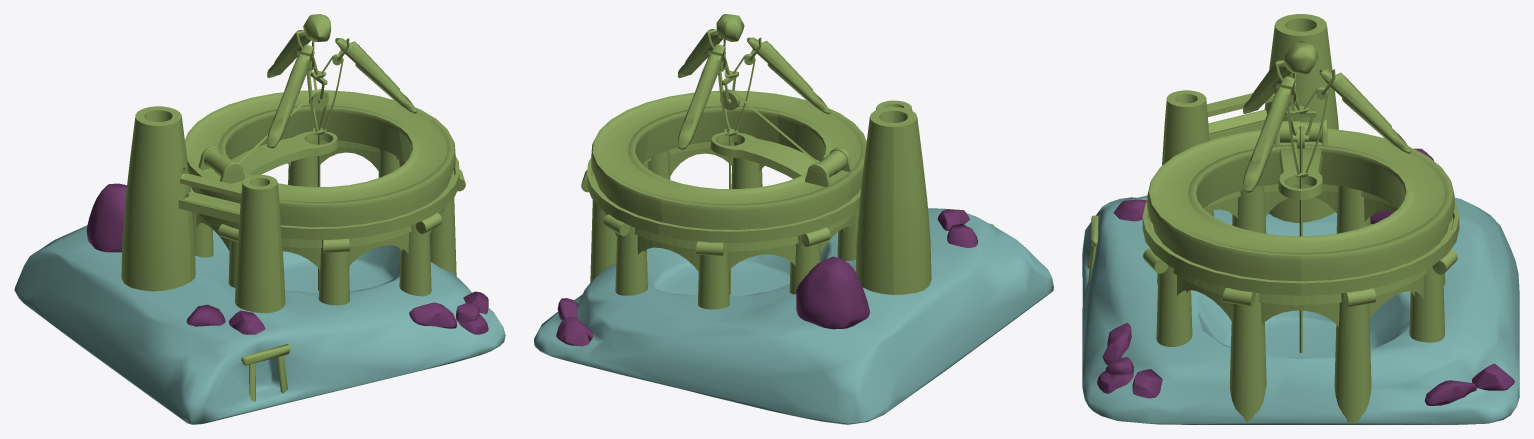
The model's file is SM_StoneBuilding_Resource_Mine.fbx.
The picture shows the model from 3 angles, left to right: view 1: azimuth 30°, elevation 25°; view 2: azimuth 150°, elevation 25°; view 3: azimuth 270°, elevation 25°; orthographic projection. The views are drawn at different scales.
Parts seen in each view (by area): view 1: socle_low2; view 2: socle_low2; view 3: socle_low2.
Part boxes in pixels (x1,y1,x2,y2): socle_low2: [14, 14, 505, 424]; socle_low2: [534, 14, 1053, 424]; socle_low2: [1082, 14, 1519, 424].
Size of the model in its own units: 729 by 571 by 708.
